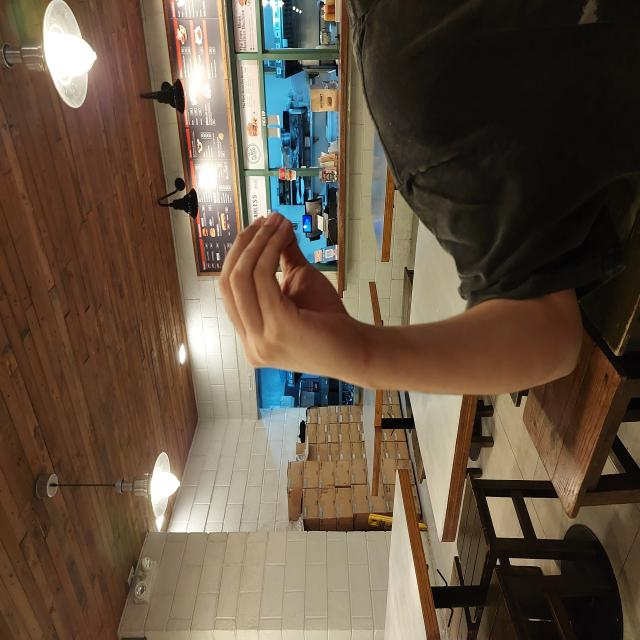O: (255, 216, 431, 371)
